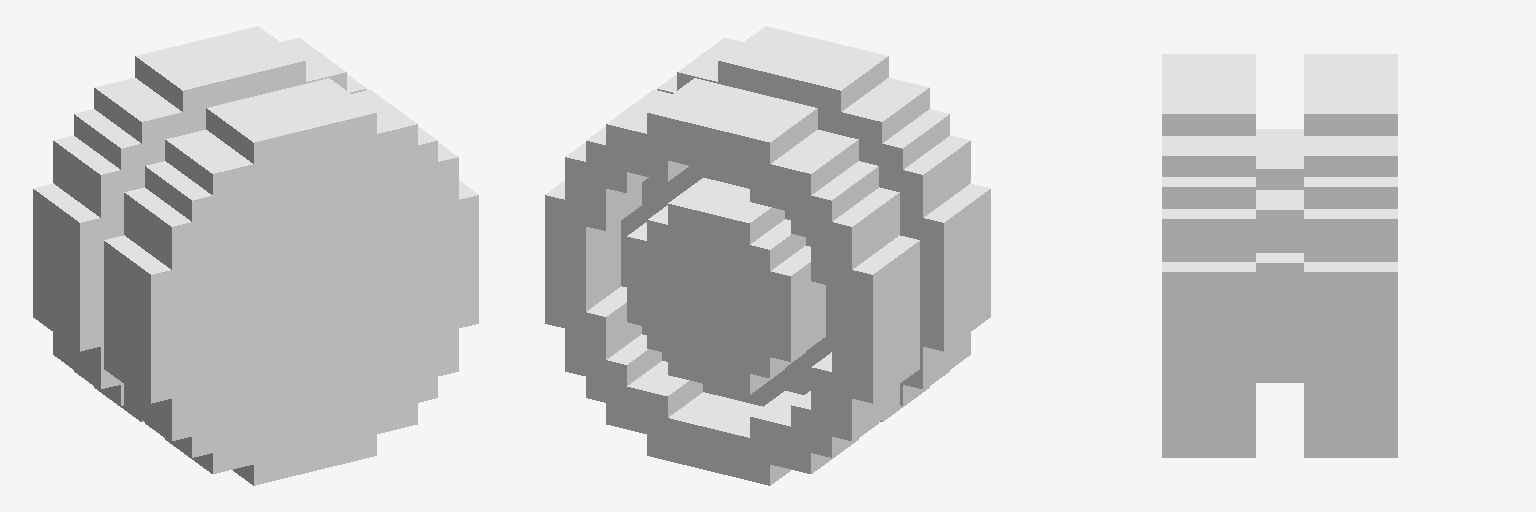
Rendered from Bot1-8.obj.
The picture shows the model from 3 angles: view 1: azimuth 30°, elevation 25°; view 2: azimuth 150°, elevation 25°; view 3: azimuth 270°, elevation 25°; orthographic projection.
Visible parts, largest first — view 1: Bot1-8; view 2: Bot1-8; view 3: Bot1-8.
Boxes of the visible parts, x1=… form: Bot1-8: x1=33, y1=26, x2=478, y2=485; Bot1-8: x1=545, y1=26, x2=990, y2=485; Bot1-8: x1=1162, y1=54, x2=1397, y2=457.
Size of the model in its own units: 16 by 16 by 10.